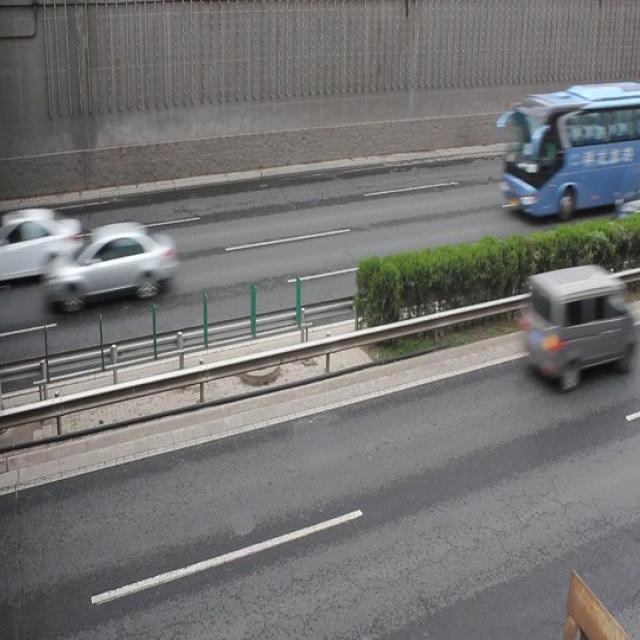car: (50, 220, 175, 311)
truck: (518, 263, 620, 388)
van: (500, 81, 640, 219)
